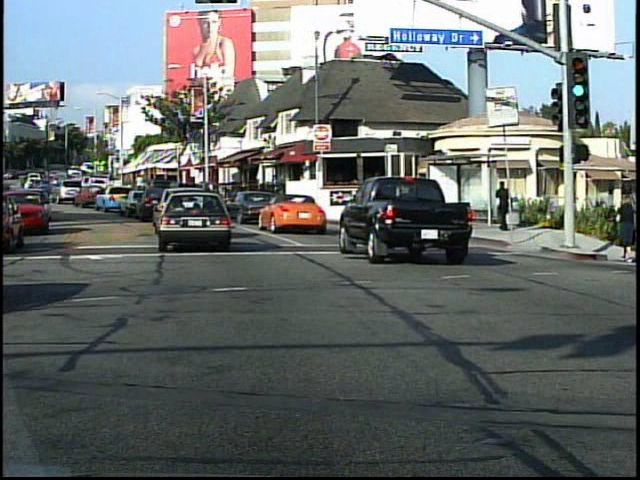person: (615, 193, 639, 265), (493, 178, 517, 236)
